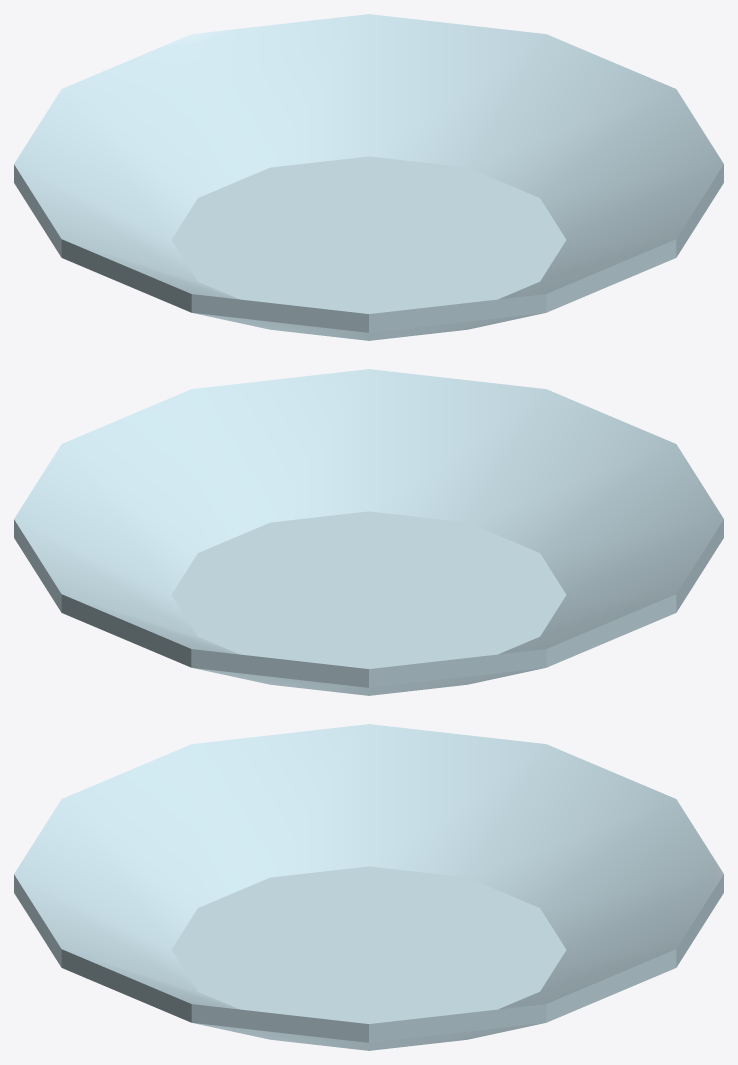
File: Piatto_Bianco.fbx
3 renders of one model, top to bottom at view 1: azimuth 30°, elevation 25°; view 2: azimuth 150°, elevation 25°; view 3: azimuth 270°, elevation 25°, orthographic.
Visible parts, largest first — view 1: Piatto_Bianco; view 2: Piatto_Bianco; view 3: Piatto_Bianco.
Part boxes in pixels (box(x1,y1,x2,y2)): Piatto_Bianco: box(14, 14, 723, 340); Piatto_Bianco: box(14, 369, 723, 695); Piatto_Bianco: box(14, 724, 723, 1050).
Bounding box in the file's own units: 0.2274 × 0.033 × 0.2274.
